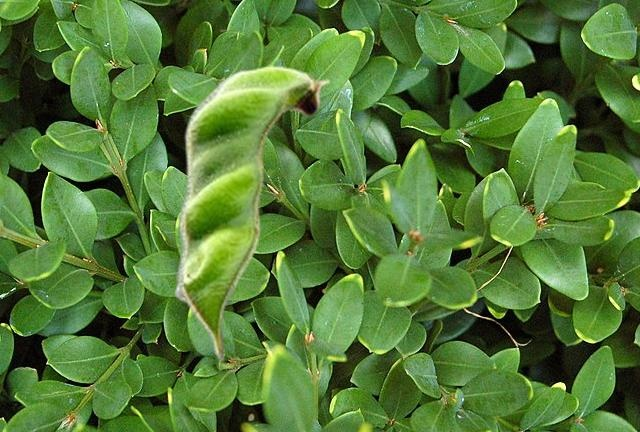pea: (173, 65, 330, 361)
